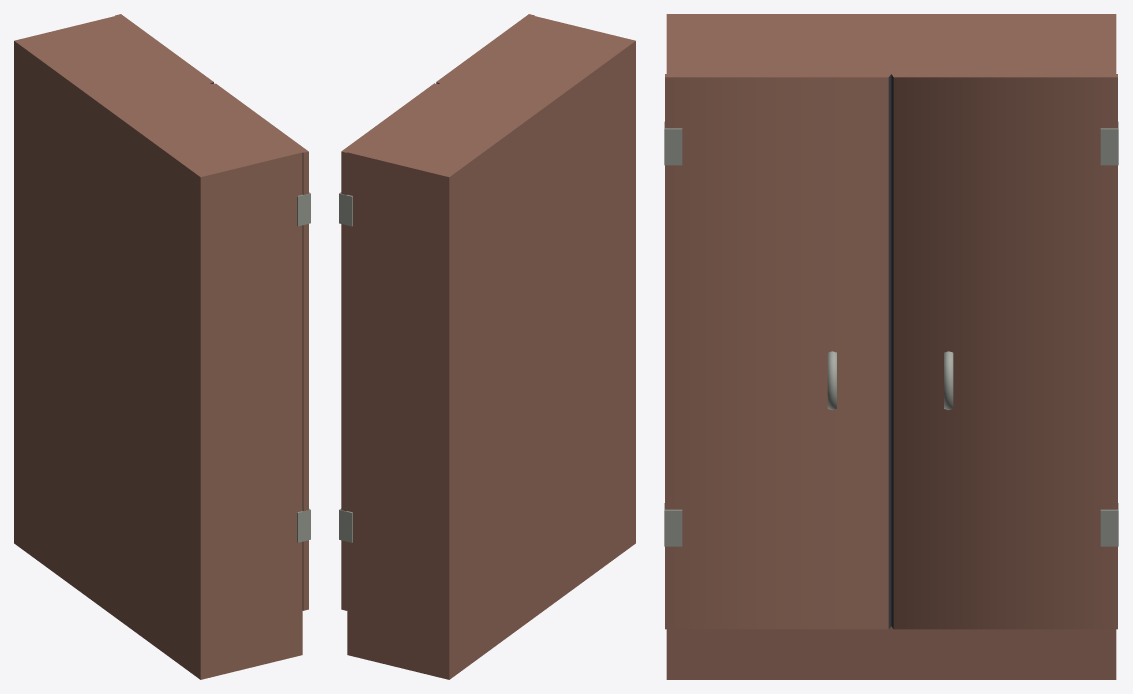
The model's file is Wardrobe.fbx.
3 views of the same model, side by side, from view 1: azimuth 30°, elevation 25°; view 2: azimuth 150°, elevation 25°; view 3: azimuth 270°, elevation 25° (orthographic). The views are drawn at different scales.
Visible parts, largest first — view 1: Wardrobe.AppliedTransform; view 2: Wardrobe.AppliedTransform; view 3: Wardrobe.AppliedTransform.
Part boxes in pixels (x1=…): Wardrobe.AppliedTransform: x1=14, y1=14, x2=310, y2=679; Wardrobe.AppliedTransform: x1=339, y1=14, x2=635, y2=679; Wardrobe.AppliedTransform: x1=664, y1=14, x2=1118, y2=679.
Size of the model in its own units: 248 by 942 by 640.
